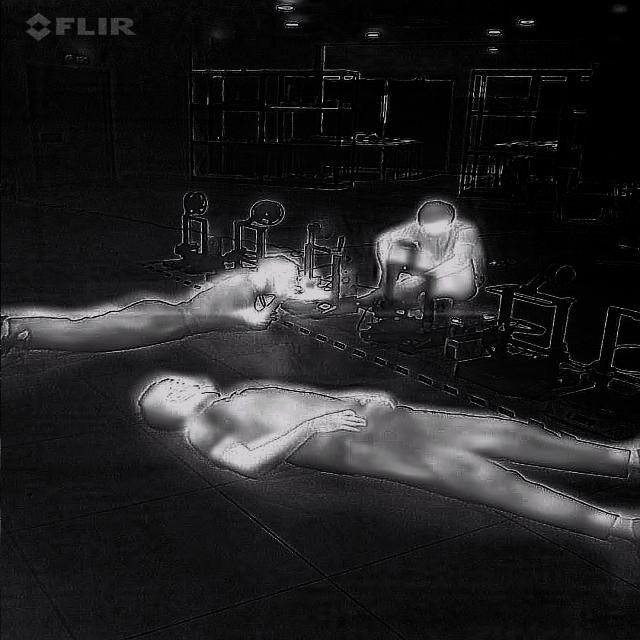Victim: (120, 366, 639, 548), (0, 243, 309, 360), (344, 190, 514, 312)
